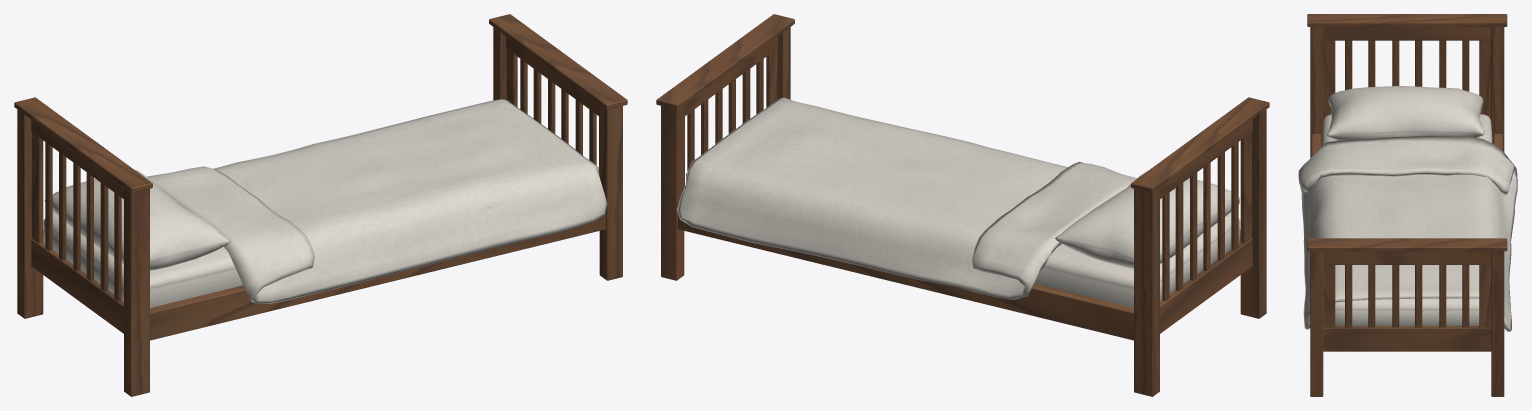
Rendered from Bed 2.glb.
The picture shows the model from 3 angles, left to right: view 1: azimuth 30°, elevation 25°; view 2: azimuth 150°, elevation 25°; view 3: azimuth 270°, elevation 25°; orthographic projection. The views are drawn at different scales.
Visible parts, largest first — view 1: Cube.002; view 2: Cube.002; view 3: Cube.002.
Part boxes in pixels (x1,y1,x2,y2): Cube.002: [14, 14, 627, 396]; Cube.002: [656, 14, 1269, 396]; Cube.002: [1298, 14, 1517, 396].
Bounding box in the file's own units: 1.88 × 0.7617 × 0.8472.
Materials: 1 (1 with a texture image).
